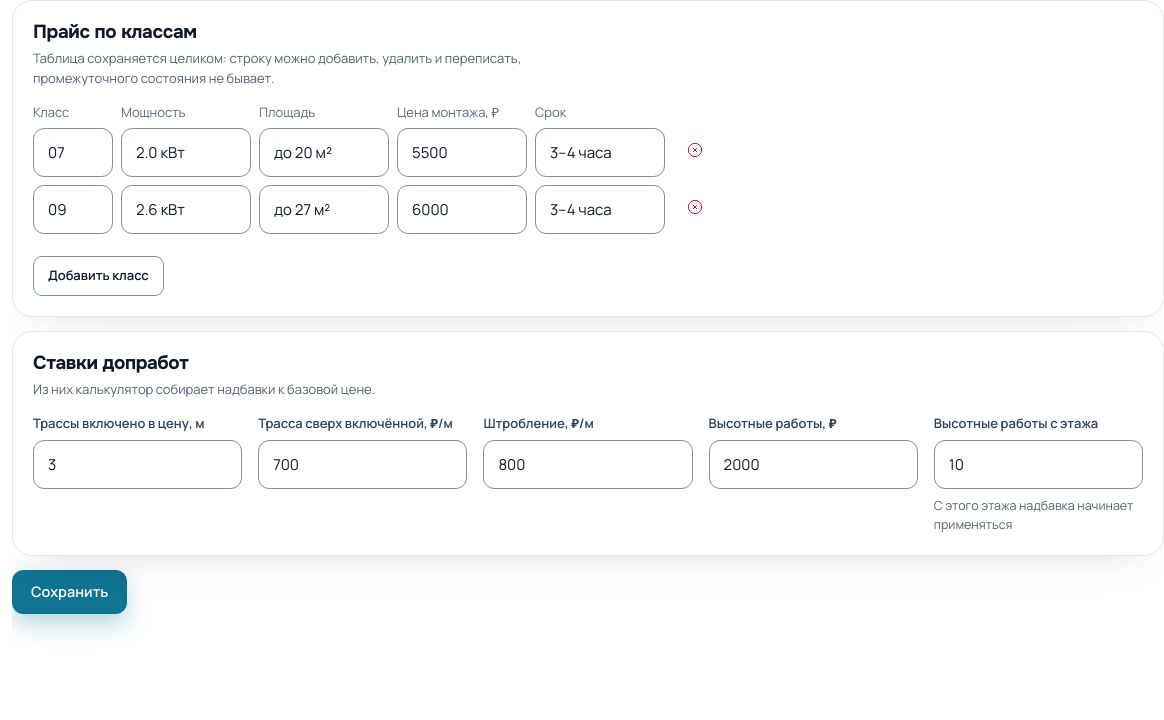
Test: Форма цен › после сохранения сообщает, что калькулятор уже считает по новым цифрам
Click the button "Сохранить": x=70, y=592 [12,570,127,614]
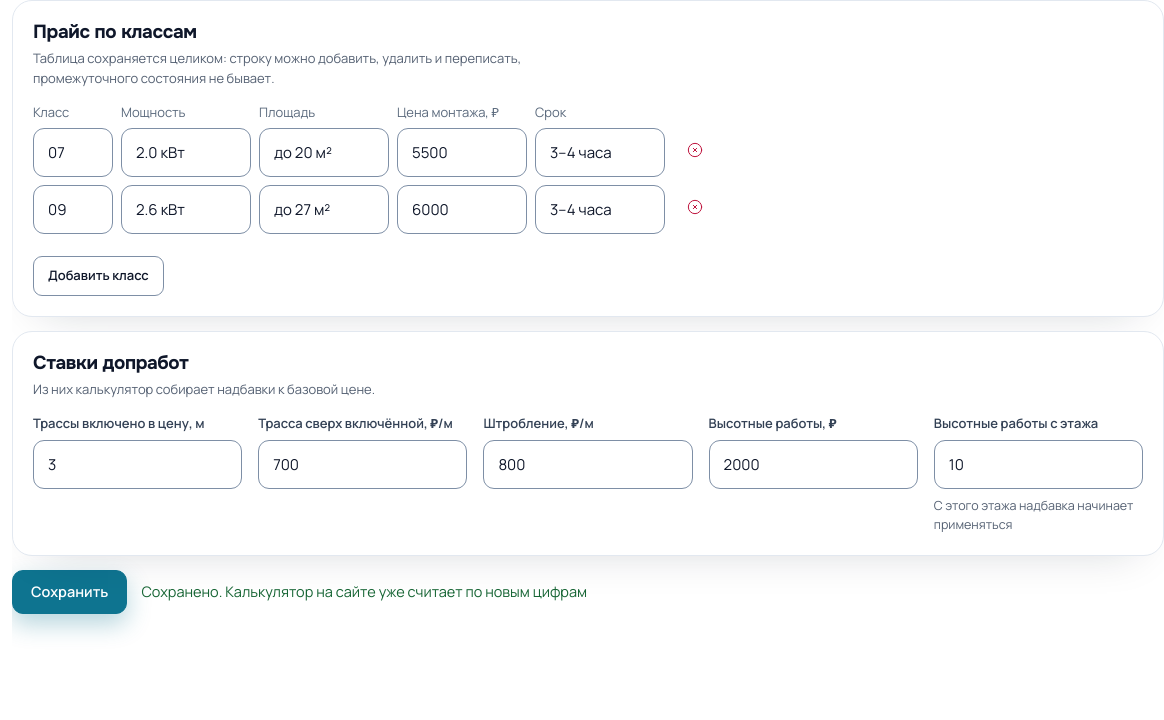
expect the message reads "Сохранено. Калькулятор на сайте уже считает по новым цифрам": met, box [141,582,587,600]
